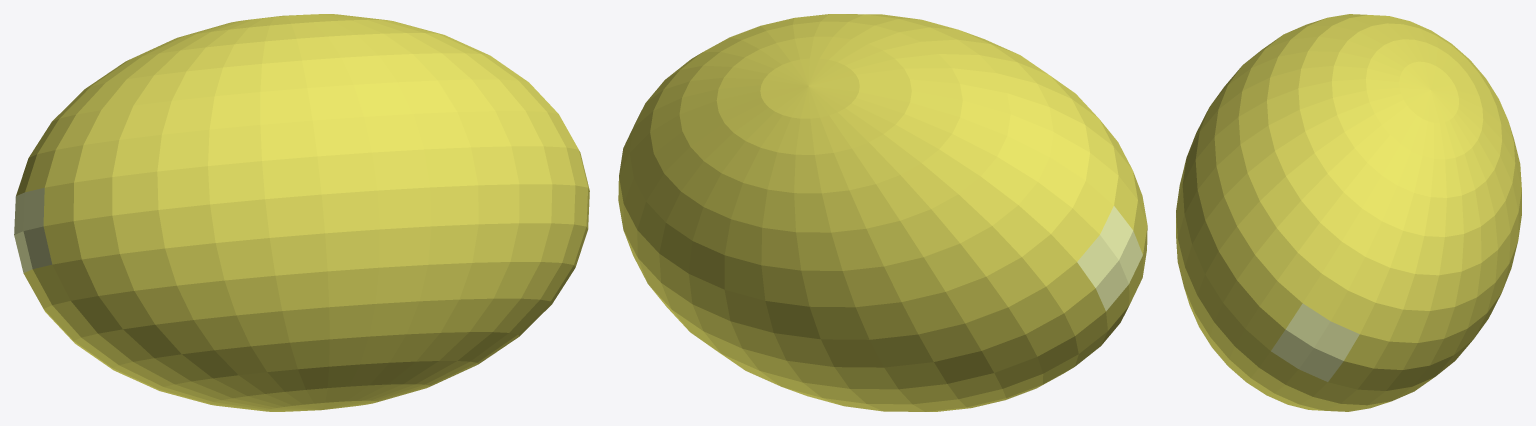
File: MELON.fbx
3 renders of one model, left to right at view 1: azimuth 30°, elevation 25°; view 2: azimuth 150°, elevation 25°; view 3: azimuth 270°, elevation 25°, orthographic. The views are drawn at different scales.
Parts seen in each view (by area): view 1: Sphere.005; view 2: Sphere.005; view 3: Sphere.005.
Part boxes in pixels (<box>): Sphere.005: <box>14,14,589,411</box>; Sphere.005: <box>618,14,1147,411</box>; Sphere.005: <box>1176,14,1521,411</box>.
Size of the model in its own units: 5.63 by 3.77 by 3.77.
